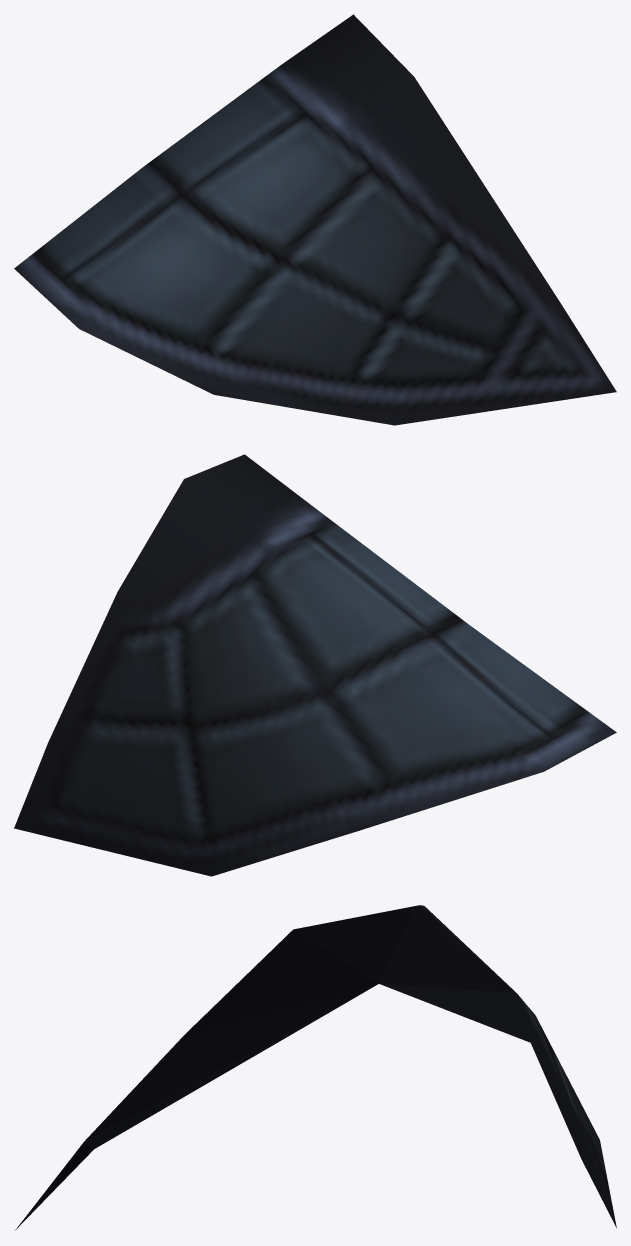
File: shadow_shoulder_drop.fbx
3 renders of one model, top to bottom at view 1: azimuth 30°, elevation 25°; view 2: azimuth 150°, elevation 25°; view 3: azimuth 270°, elevation 25°, orthographic. The views are drawn at different scales.
Visible parts, largest first — view 1: Shadow/shoulders; view 2: Shadow/shoulders; view 3: Shadow/shoulders.
Part boxes in pixels (box(x1,y1,x2,y2)): Shadow/shoulders: box(14, 14, 616, 425); Shadow/shoulders: box(14, 454, 616, 876); Shadow/shoulders: box(15, 905, 616, 1230).
Size of the model in its own units: 0.262 by 0.1712 by 0.3047.
